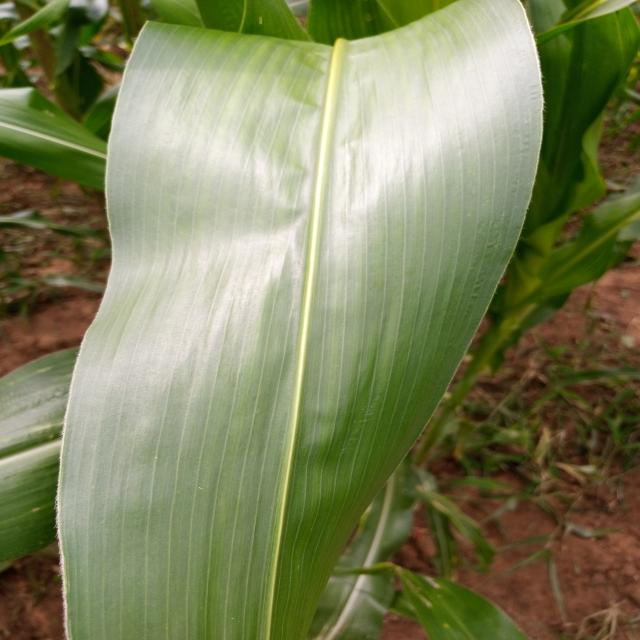healthy-maize: (143, 44, 443, 397)
